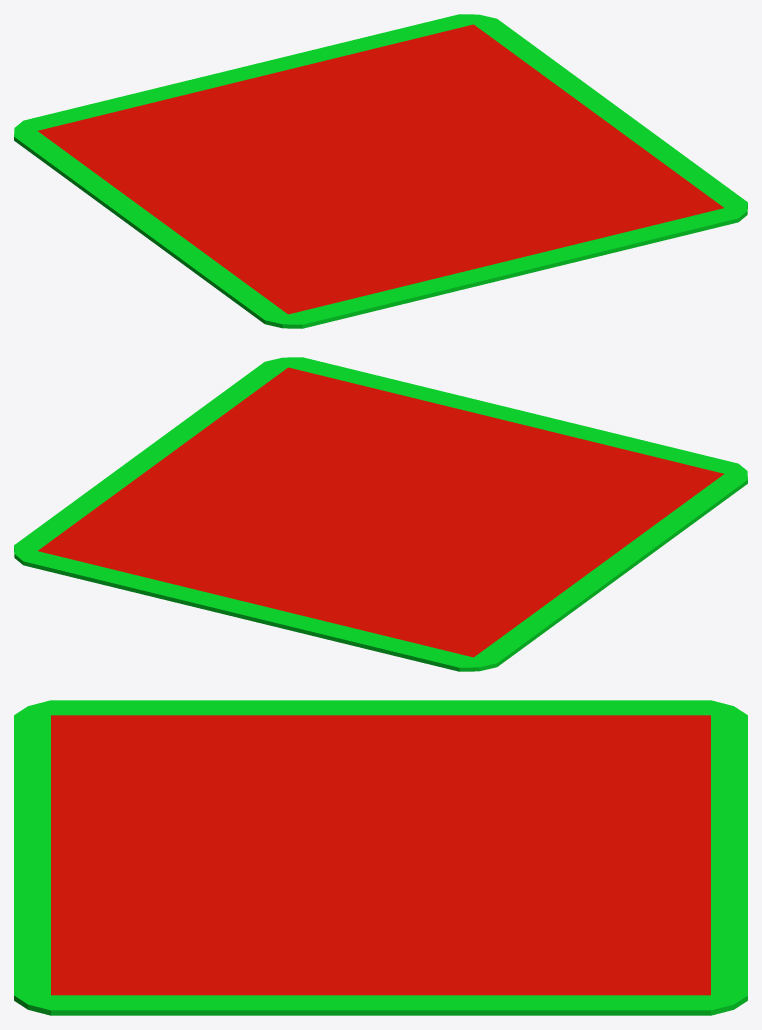
Rendered from MemoCard.fbx.
3 renders of one model, top to bottom at view 1: azimuth 30°, elevation 25°; view 2: azimuth 150°, elevation 25°; view 3: azimuth 270°, elevation 25°, orthographic. The views are drawn at different scales.
Parts seen in each view (by area): view 1: MemoCard; view 2: MemoCard; view 3: MemoCard.
Boxes of the visible parts, x1,y1,x2,y2 form: MemoCard: (14,14,747,328); MemoCard: (14,357,747,671); MemoCard: (14,700,747,1015).
Bounding box in the file's own units: 2 × 0.016 × 2.
